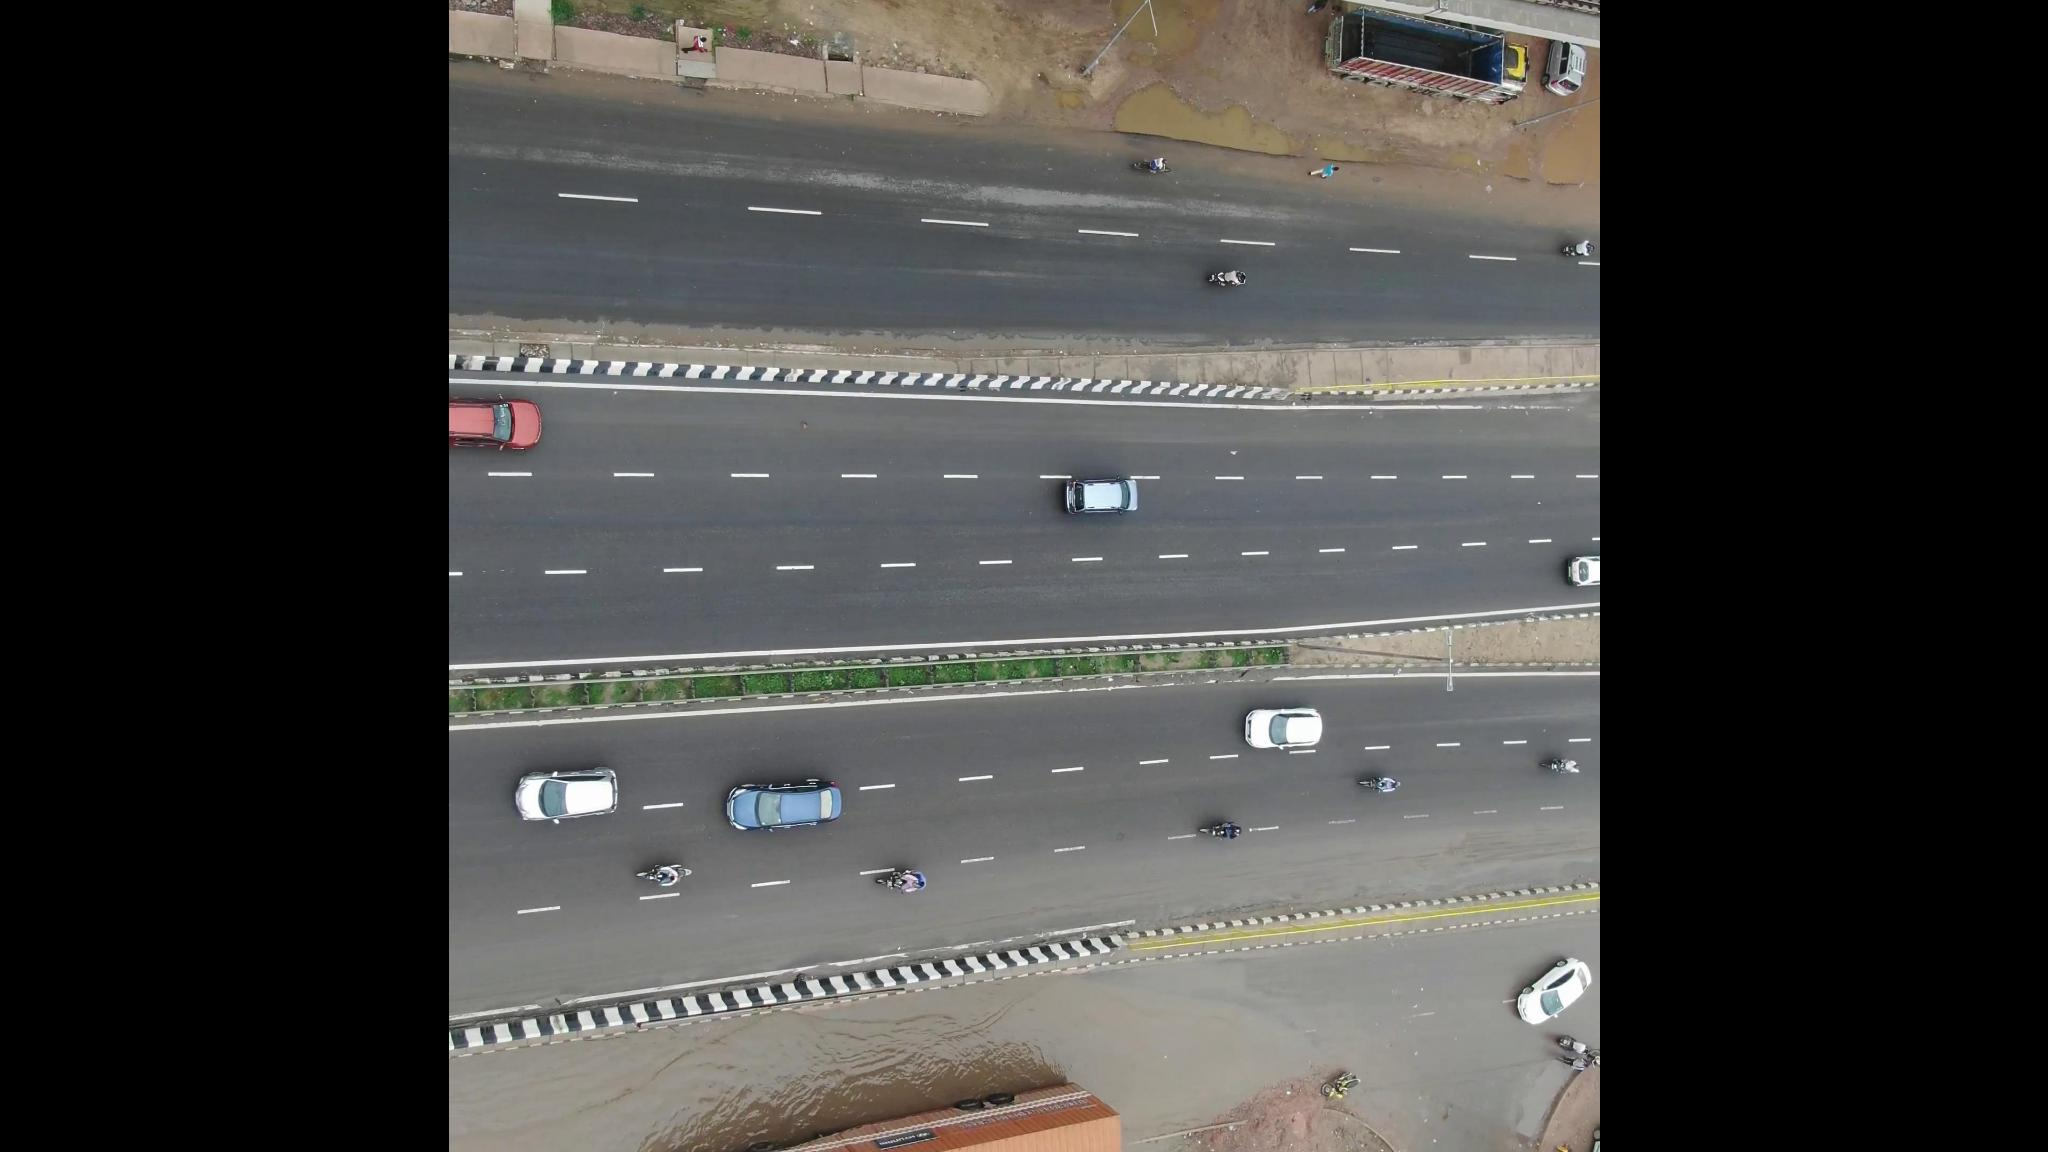Muddy_road: (1160, 838, 1442, 919)
Waterlogging: (807, 947, 1349, 1152), (454, 997, 800, 1152), (1120, 75, 1357, 179)
